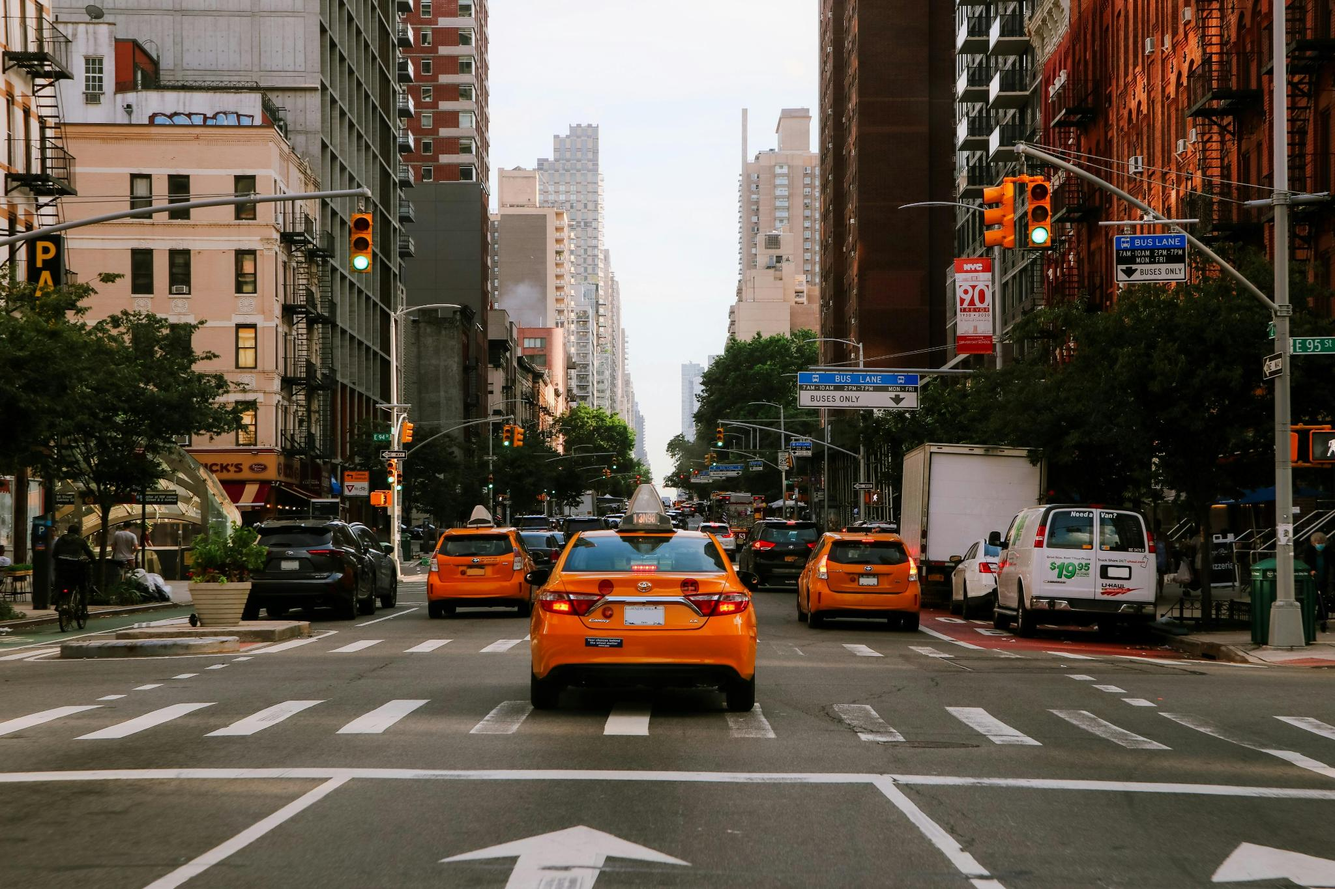car: (531, 520, 765, 714), (245, 526, 400, 623), (799, 534, 926, 630), (427, 529, 538, 622), (739, 519, 824, 591), (517, 530, 567, 588)
pedestrian: (113, 522, 143, 567)
